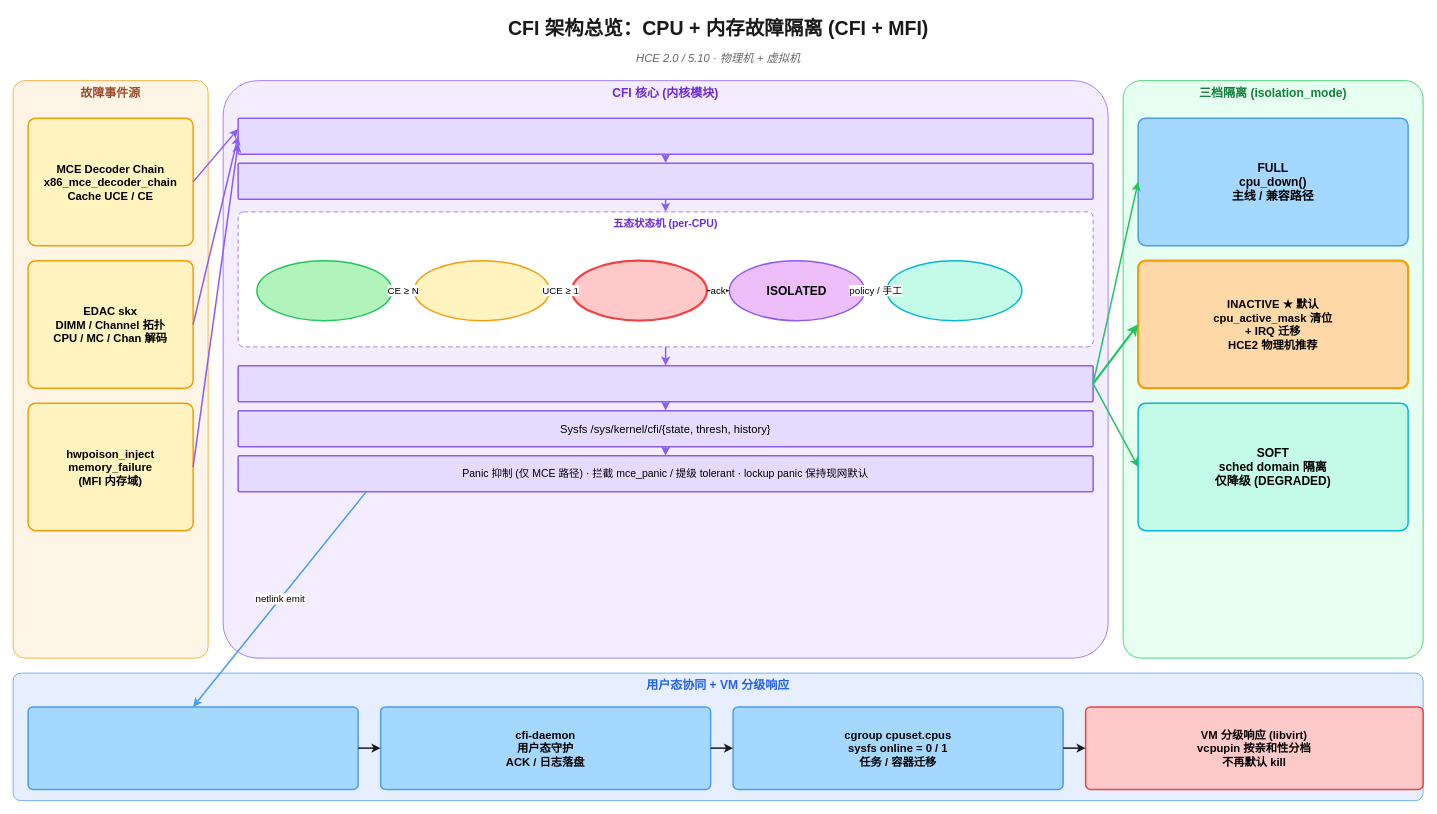
Image size: 1437x814. Some labels were removed from this diagram. Each missing label, with the centre of its shape:
"DEGRADED" goes at pixel 481 290.
"ISOLATING" goes at pixel 639 290.
"Netlink (cfi_evt) 内核 → 用户态 事件通知" goes at pixel 192 748.
"ONLINE" goes at pixel 324 290.
"Per-CPU 计数 + 阈值累计 (CE / UCE)" goes at pixel 665 181.
"RECOVERED" goes at pixel 954 290.
"事件分发 cfi_core 通知链处理" goes at pixel 665 135.
"动作派发 cfi_hotplug (按 isolation_mode)" goes at pixel 665 383.
